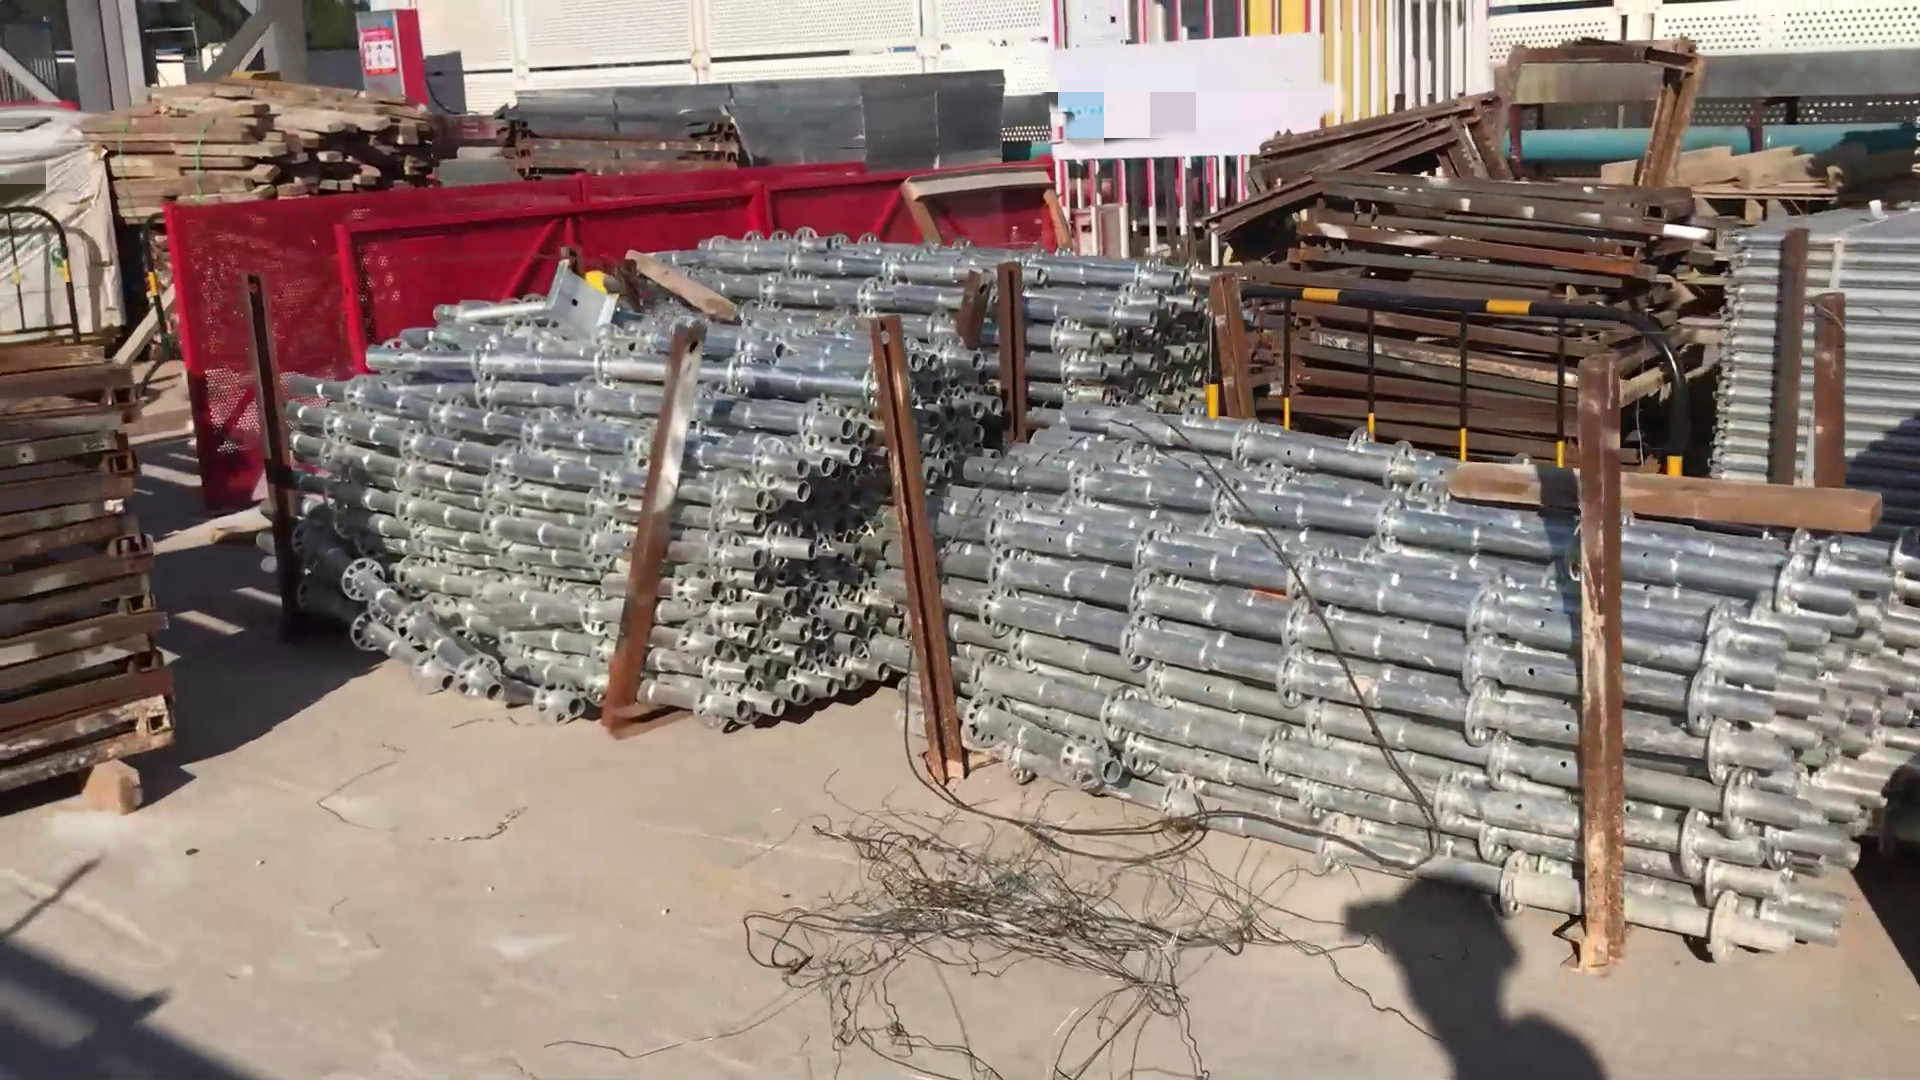fence: (1197, 273, 1689, 454)
rebar: (1221, 102, 1701, 454), (8, 345, 194, 810)
scaffold: (992, 393, 1894, 961), (328, 284, 916, 719), (1727, 203, 1920, 510)
wood: (92, 74, 425, 218)
